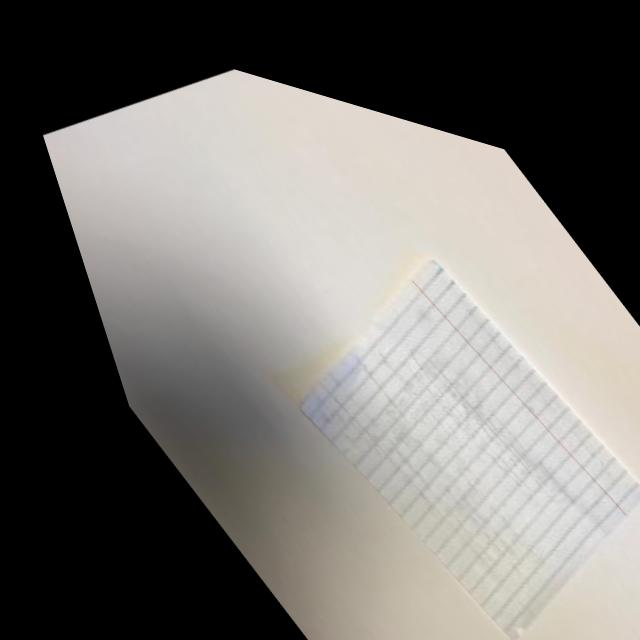paper: (30, 7, 640, 640)
